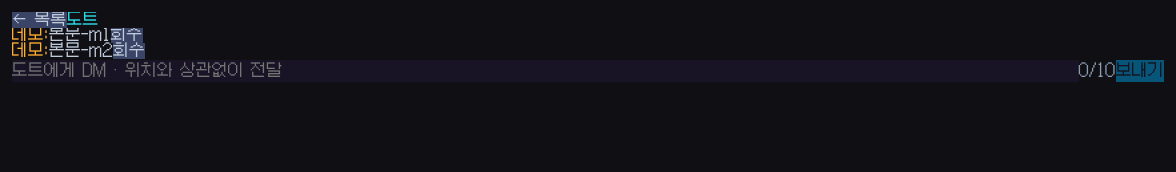
Test: DmThread › 회수에 성공하면 사라지고, 이미 읽혔으면(409) 안내한다
Click the button "회수" next to "본문-m1".
click(127, 35)  # box [111,27,143,43]
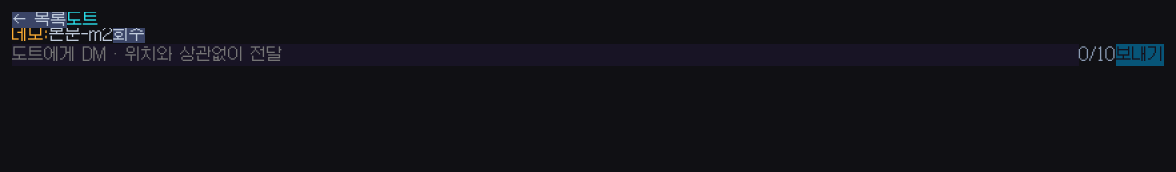
Check: the text "본문-m1" is gone
Click the button "회수".
click(129, 35)  # box [113,27,145,43]
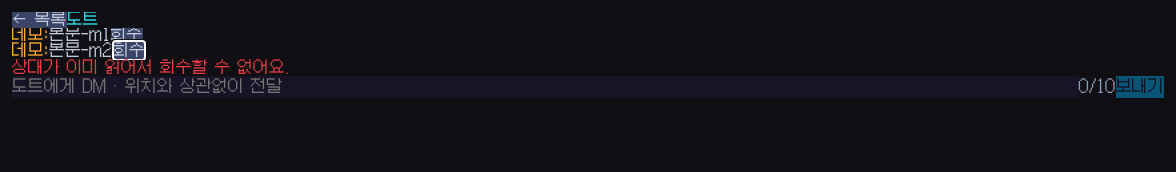
Check: the text "상대가 이미 읽어서 회수할 수 없어요." is shown, box [12,58,291,77]
